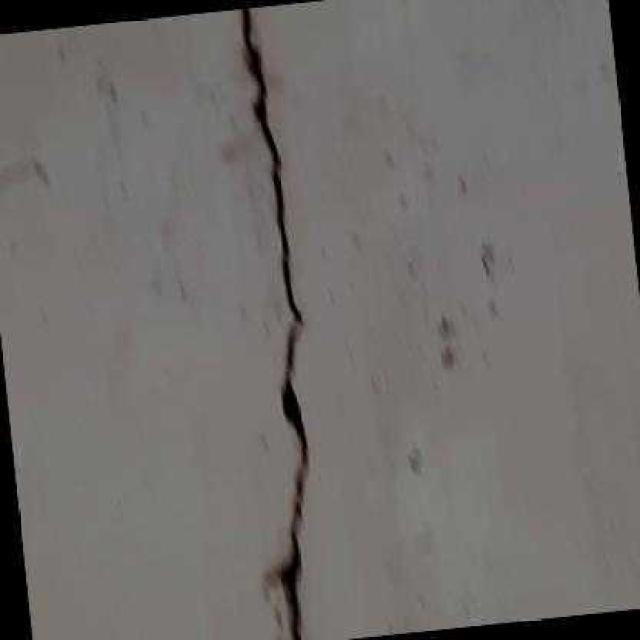D00: (240, 6, 309, 640)
